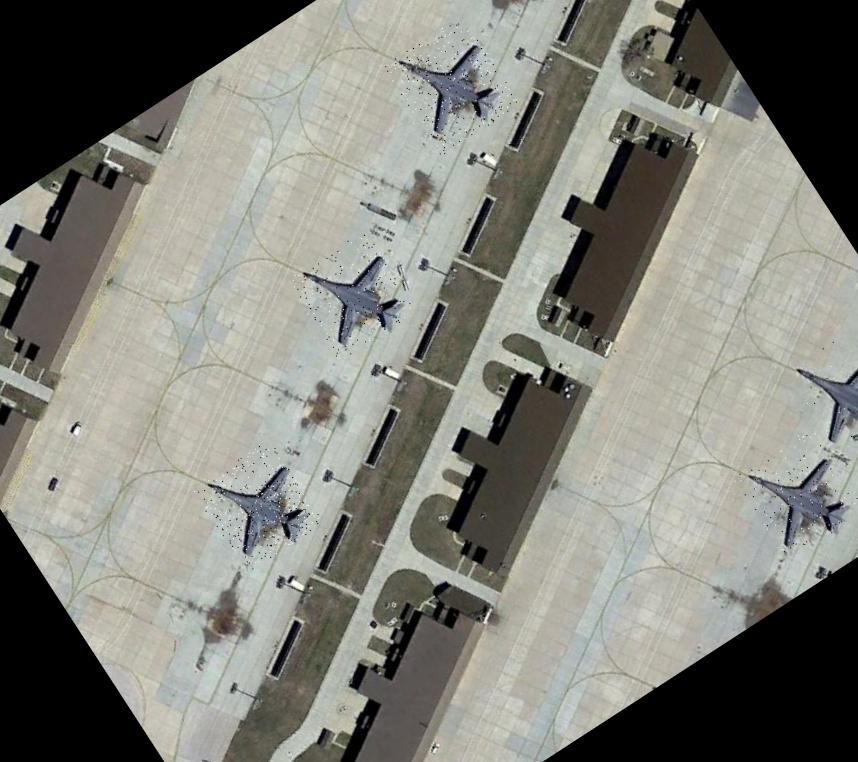A10: (383, 15, 521, 156), (192, 439, 324, 574), (286, 229, 419, 362), (733, 427, 858, 562), (781, 324, 858, 457)
